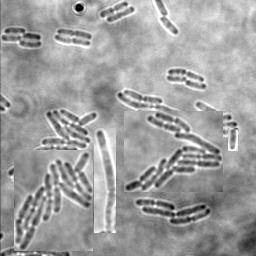Dividing: (99, 1, 128, 18), (54, 34, 90, 47), (56, 28, 92, 39), (27, 239, 64, 249)
Microcolony: (7, 109, 98, 180), (165, 54, 211, 135), (13, 48, 86, 84), (135, 199, 211, 224), (195, 101, 238, 136), (117, 88, 164, 119), (99, 161, 120, 223), (1, 27, 42, 48)
Rod: (106, 5, 135, 23), (157, 16, 178, 34)
